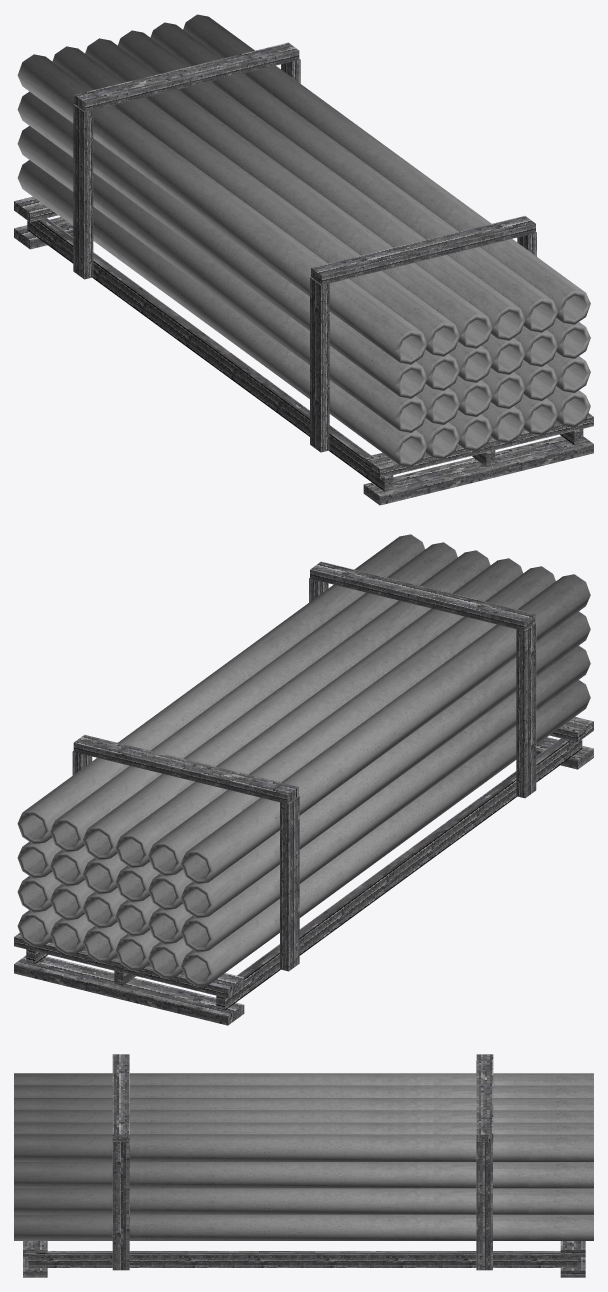
Rendered from pvc_pipe_pallet.glb.
The picture shows the model from 3 angles, top to bottom: view 1: azimuth 30°, elevation 25°; view 2: azimuth 150°, elevation 25°; view 3: azimuth 270°, elevation 25°; orthographic projection. The views are drawn at different scales.
Parts seen in each view (by area): view 1: pvc_pipe, pvc_pipe_wood_pallet; view 2: pvc_pipe, pvc_pipe_wood_pallet; view 3: pvc_pipe, pvc_pipe_wood_pallet.
Part boxes in pixels (bbox=[...]): pvc_pipe: bbox=[17, 14, 590, 466]; pvc_pipe_wood_pallet: bbox=[14, 42, 593, 505]; pvc_pipe: bbox=[17, 534, 590, 986]; pvc_pipe_wood_pallet: bbox=[14, 561, 593, 1025]; pvc_pipe: bbox=[14, 1073, 593, 1240]; pvc_pipe_wood_pallet: bbox=[23, 1054, 585, 1277].
Bounding box in the file's own units: 1.01 × 0.832 × 3.05.
Materials: 2 (2 with a texture image).
